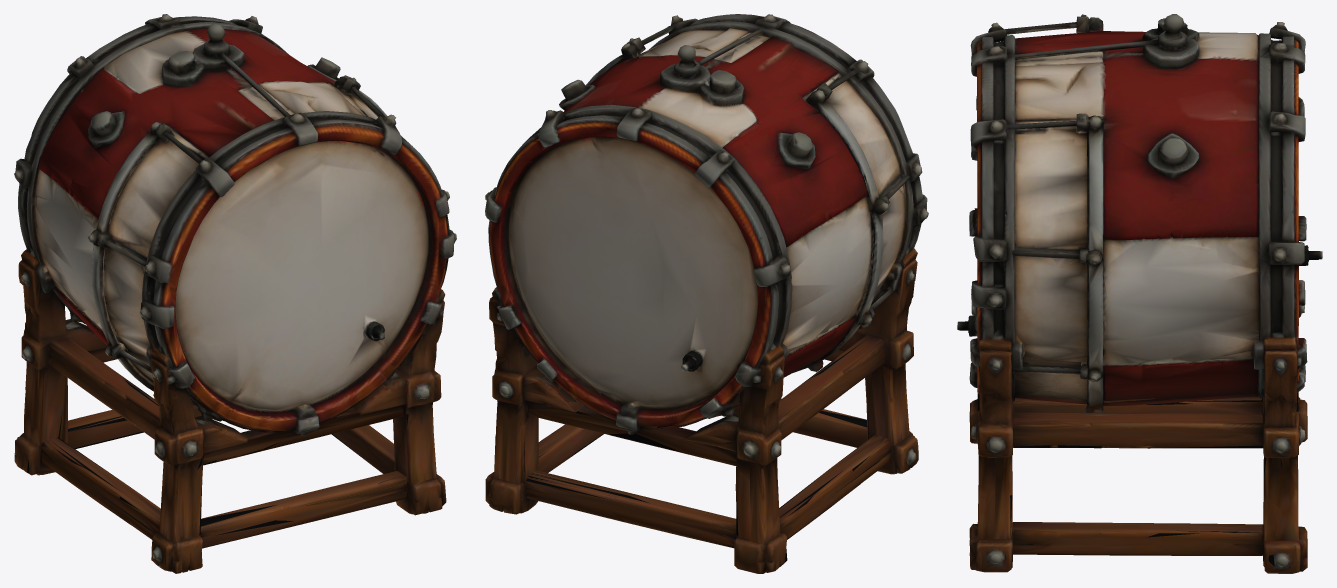
File: bombo.glb
3 views of the same model, side by side, from view 1: azimuth 30°, elevation 25°; view 2: azimuth 150°, elevation 25°; view 3: azimuth 270°, elevation 25° (orthographic). The views are drawn at different scales.
Parts seen in each view (by area): view 1: bombo; view 2: bombo; view 3: bombo.
Boxes of the visible parts, bbox=[...] form: bombo: bbox=[14, 14, 456, 573]; bombo: bbox=[485, 14, 928, 573]; bombo: bbox=[957, 14, 1322, 573].
Size of what is drawn, in the model's own units: 0.4892 by 0.6499 by 0.4419.
1 material, 1 textured.
